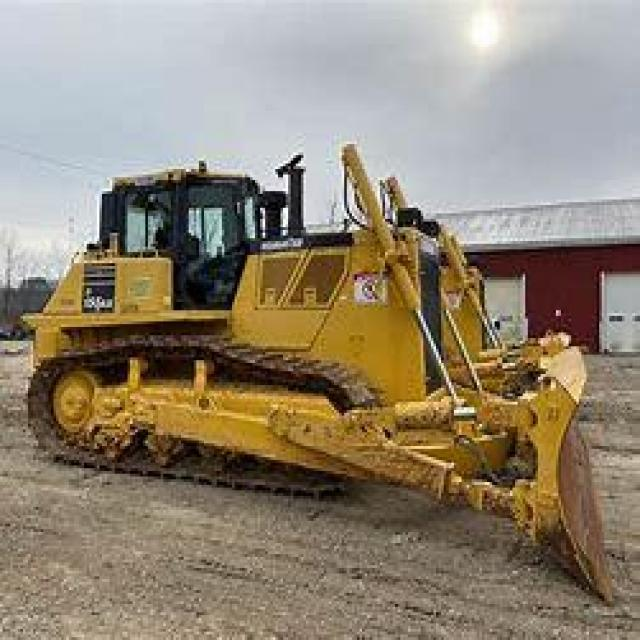Bulldozer: (18, 147, 625, 604)
